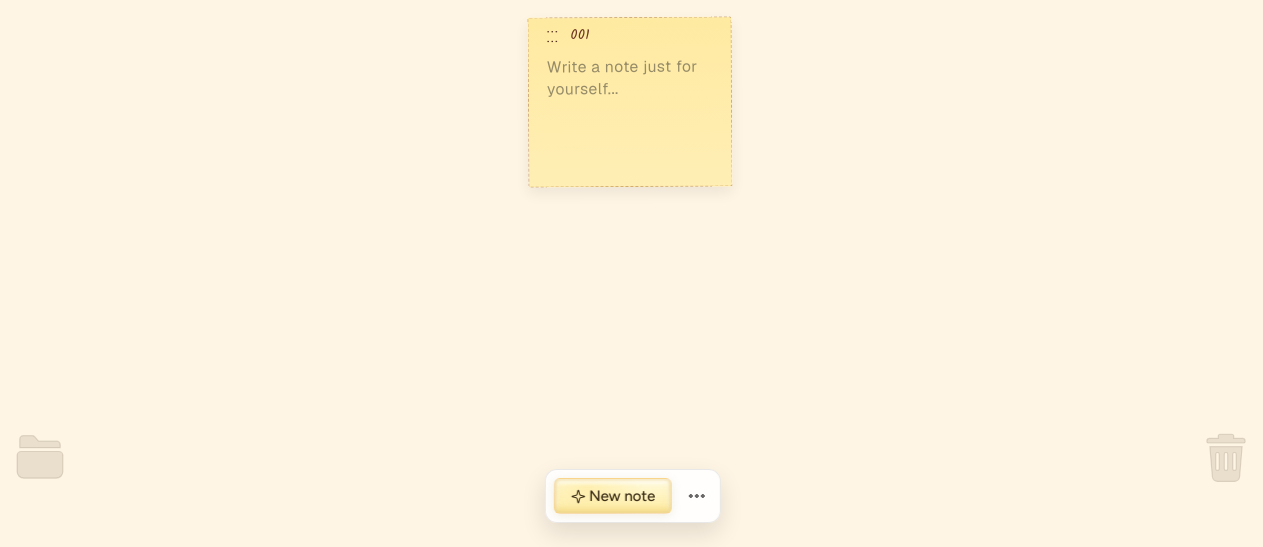
LocalNotes › submits a note with Enter
Click the button "New note" at (613, 496), box [554,478,672,514]
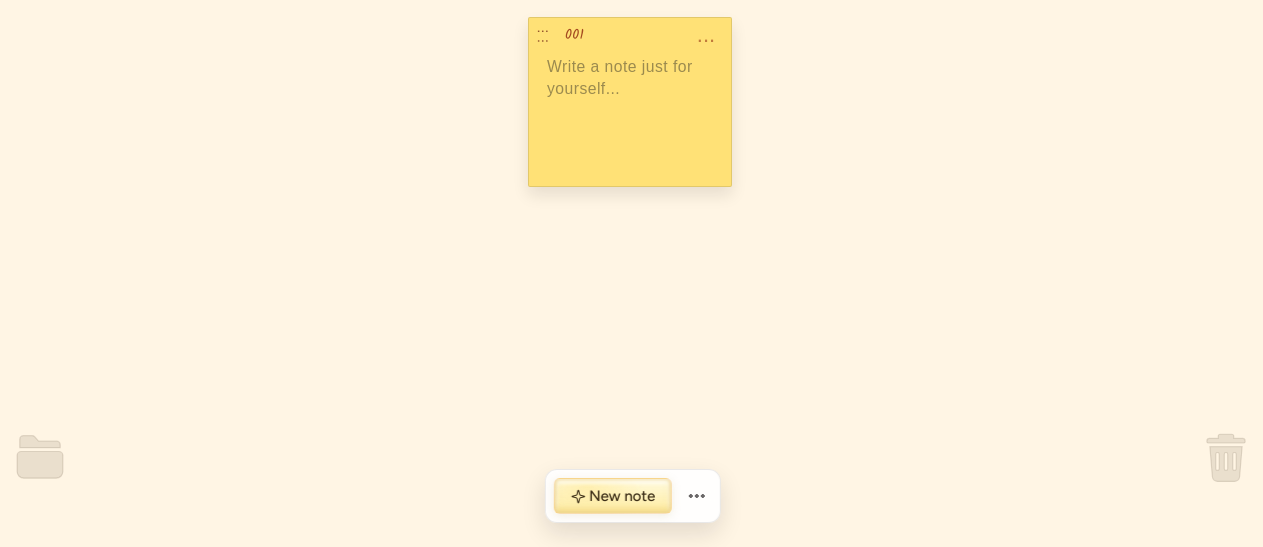
Type "回车贴上去" into the text box named "Edit note" at (630, 112), box [547,56,713,168]
Then press Enter
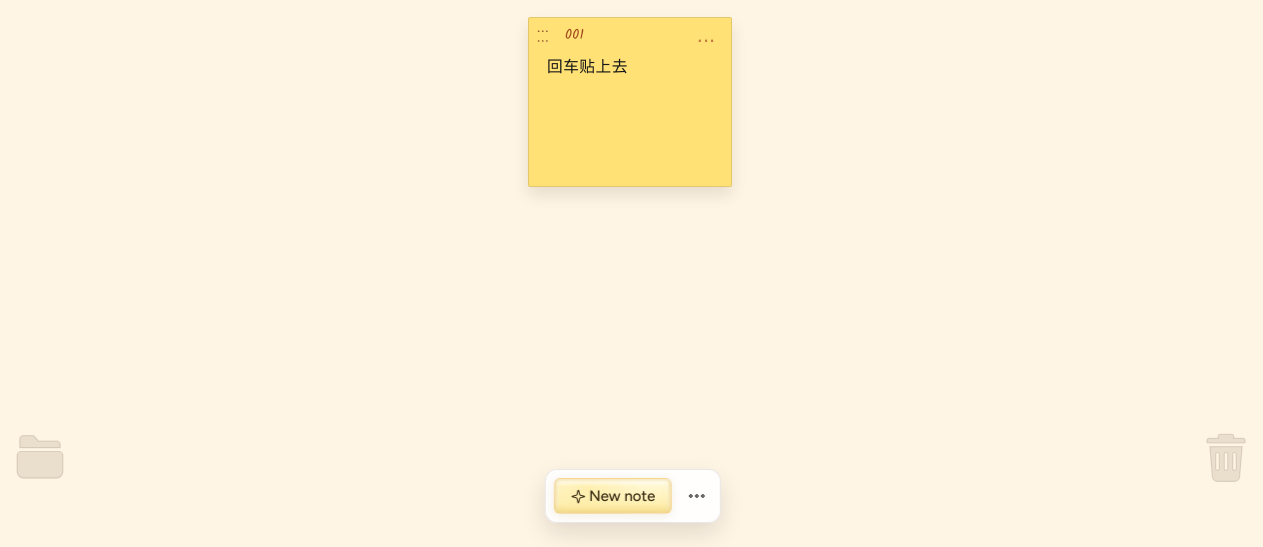
Expected: the text "回车贴上去" is shown, [547,58,628,75]
